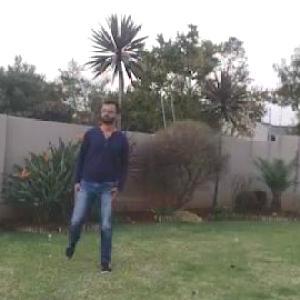follow: (68, 89, 130, 277)
